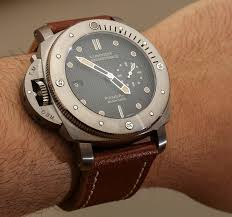clock: (50, 20, 170, 133)
